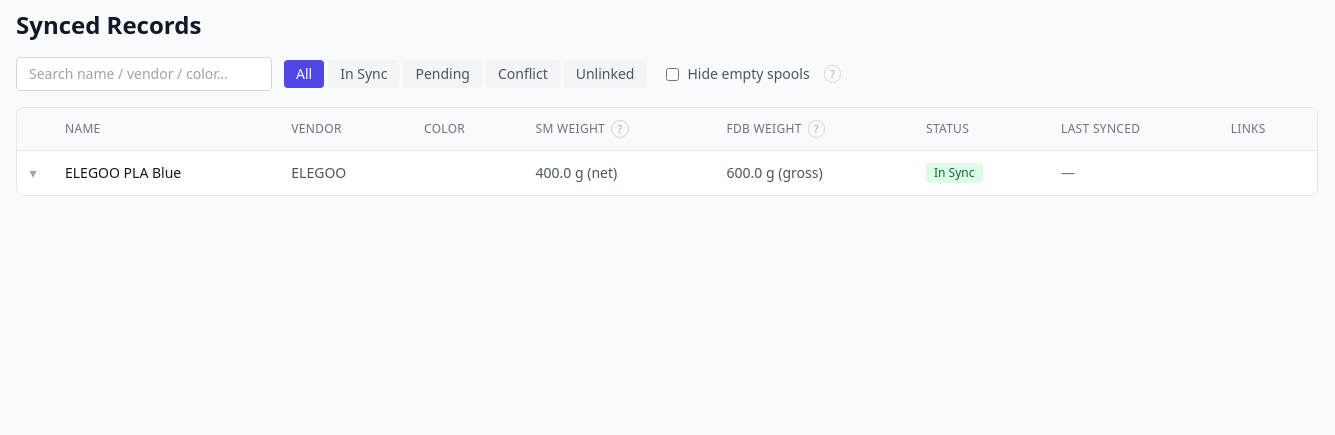
Test case: SyncedRecords — Unlink action › clicking Unlink shows the confirm panel with bridge-local disclaimer
Click the text "ELEGOO PLA Blue". click: {"x": 162, "y": 172}
box: [49,150,275,195]
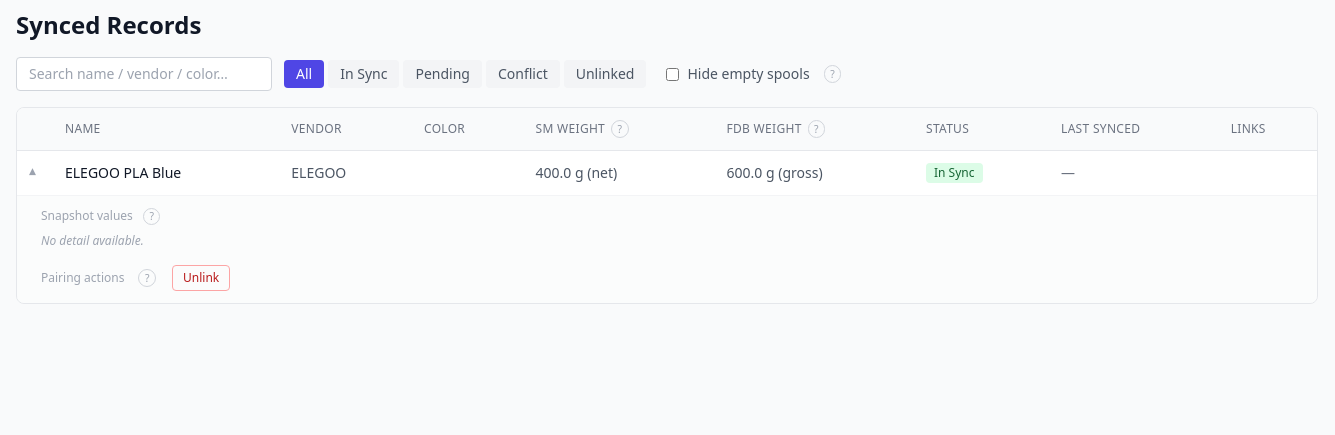
Click the button "Unlink". click: {"x": 201, "y": 278}
box: [172,265,230,291]
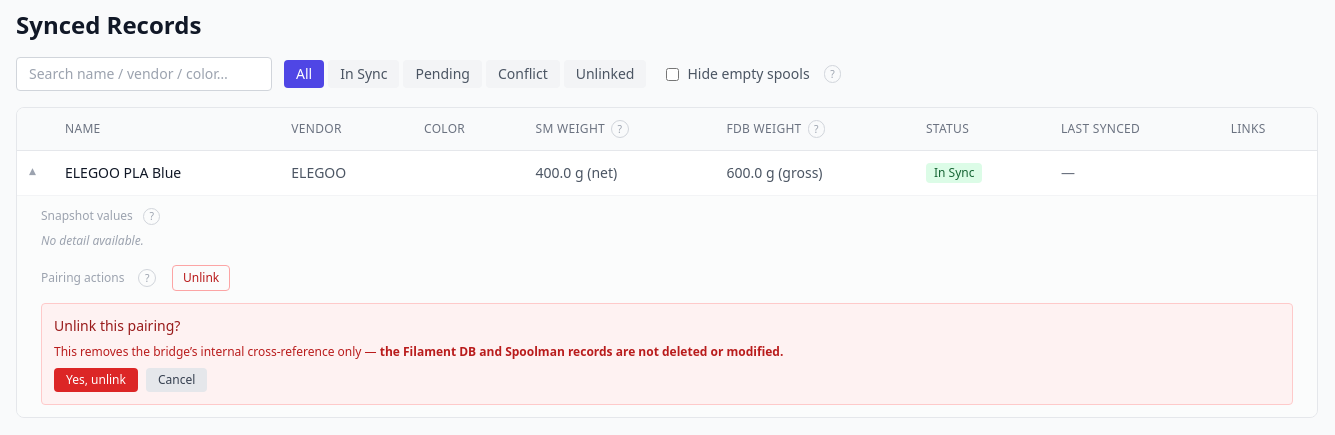
Expected: the text "not deleted or modified" is shown, [380,343,783,360]
Expected: the button "Yes, unlink" is shown, [54,368,138,392]
Expected: the button "Cancel" is shown, [146,368,207,392]
